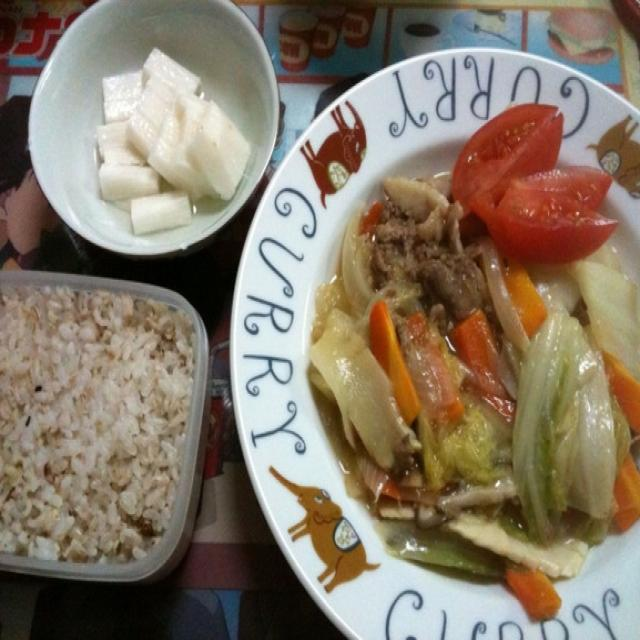带馅早点: (187, 128, 469, 264), (300, 249, 514, 424), (108, 221, 310, 396)
